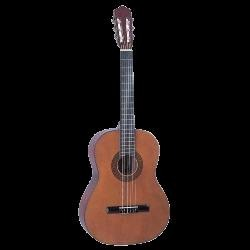guitar: (77, 5, 171, 246)
